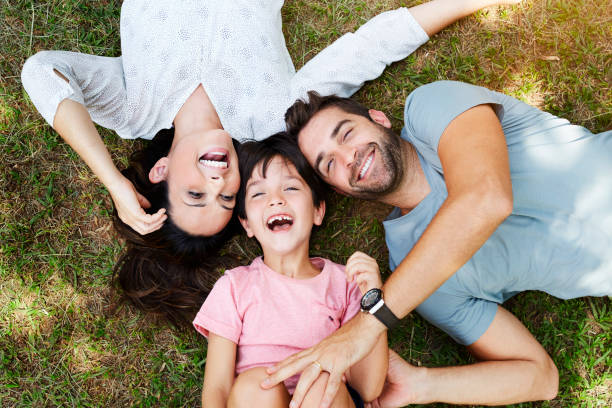without mask: (296, 88, 415, 210), (160, 127, 247, 240), (237, 157, 319, 254)
